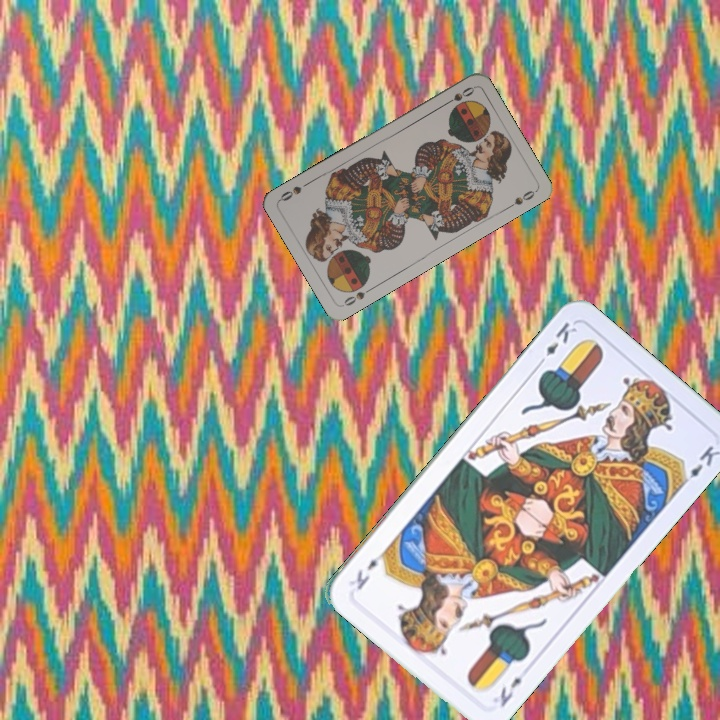EK: (534, 318, 580, 369), (496, 664, 533, 710)
SO: (439, 83, 477, 109), (339, 283, 376, 309)
